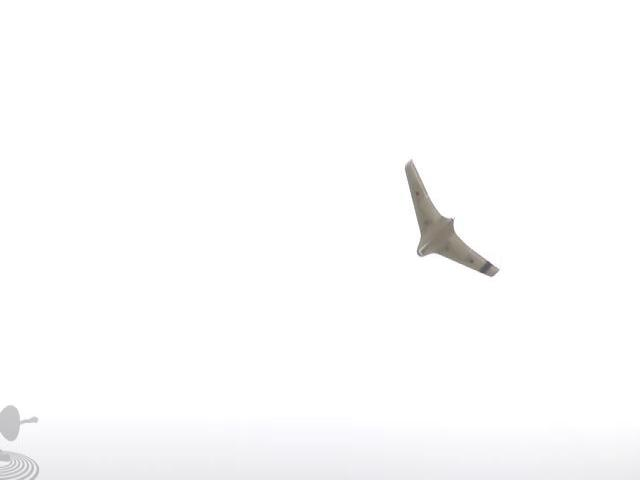iha: (400, 150, 506, 280)
